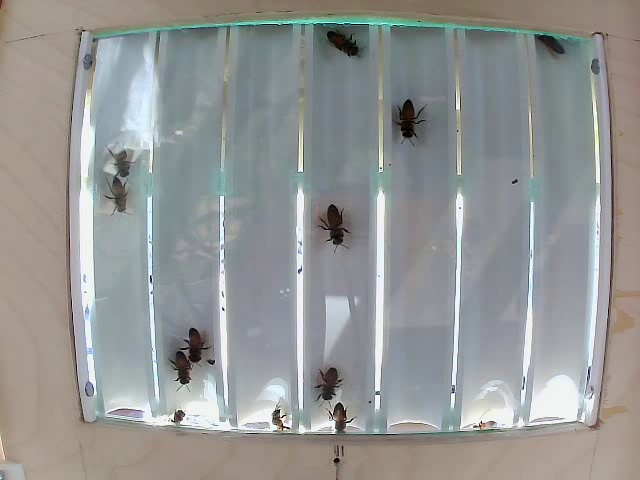bee: (319, 206, 365, 246), (179, 330, 220, 367), (310, 363, 348, 402), (99, 133, 139, 170), (320, 28, 359, 64), (96, 174, 135, 210), (400, 106, 432, 147), (324, 399, 360, 432), (163, 351, 194, 388), (536, 37, 563, 64)
